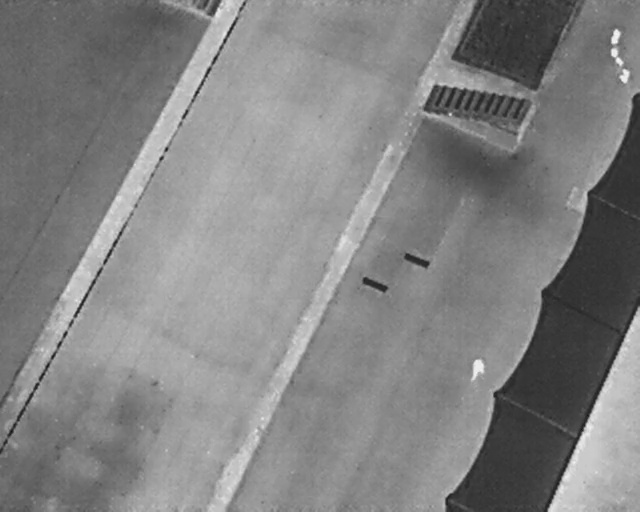Person: (466, 353, 490, 385)
